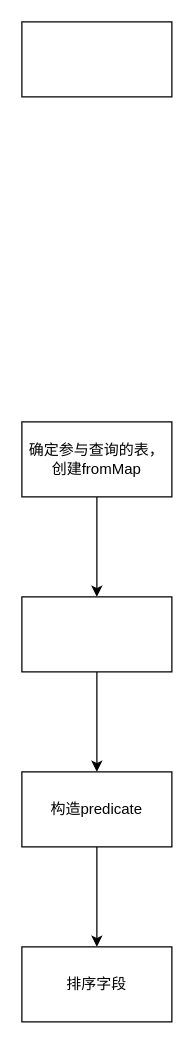
The diagram is 194 pixels wide and 1044 high, and some of its shapes have lost their labels. Each missing label, with the centre of its shape:
"构造结果字段list" belongs at point (96, 59).
"确定结果集" belongs at point (96, 634).
